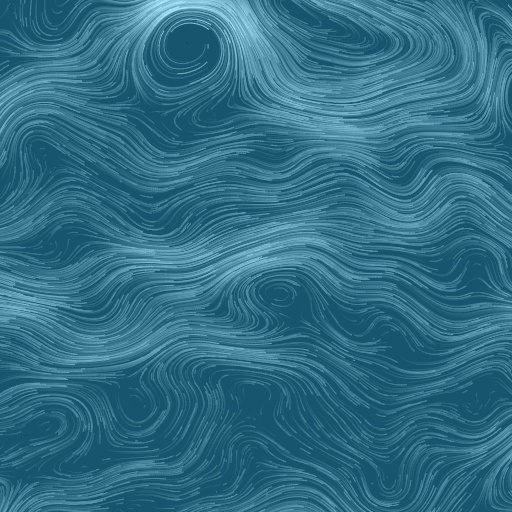eddy: (137, 5, 238, 89), (115, 383, 158, 427), (255, 274, 302, 313)
